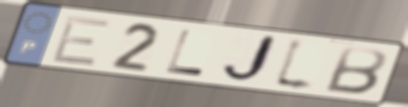2: (109, 22, 161, 74)
B: (321, 44, 389, 97)
E: (47, 15, 114, 68)
J: (218, 33, 281, 85)
L: (269, 35, 320, 96), (163, 27, 208, 78)
